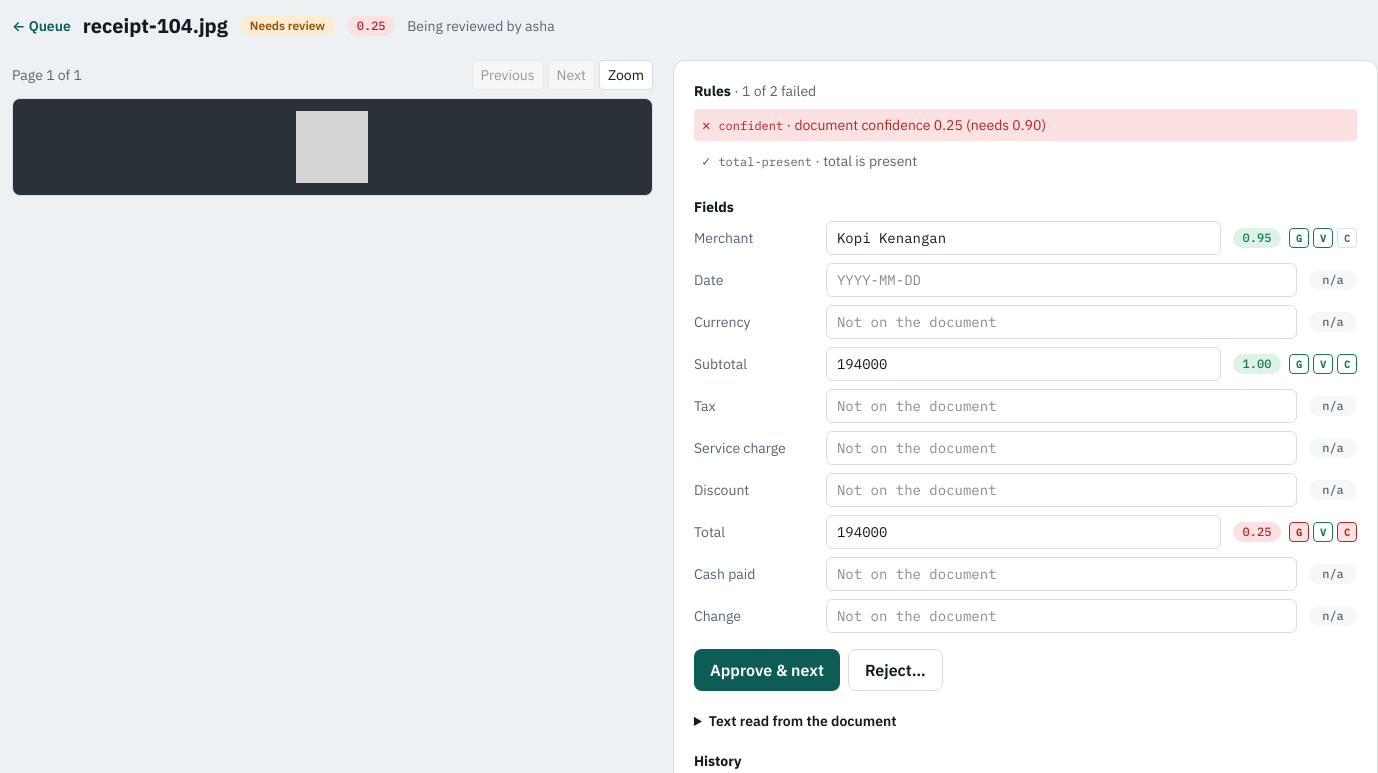
Test: ReviewPage › shows why a decision failed
This screenshot has width=1378, height=773.
Click the button "Approve & next" at (767, 670), box x1=694 y1=649 x2=840 y2=691
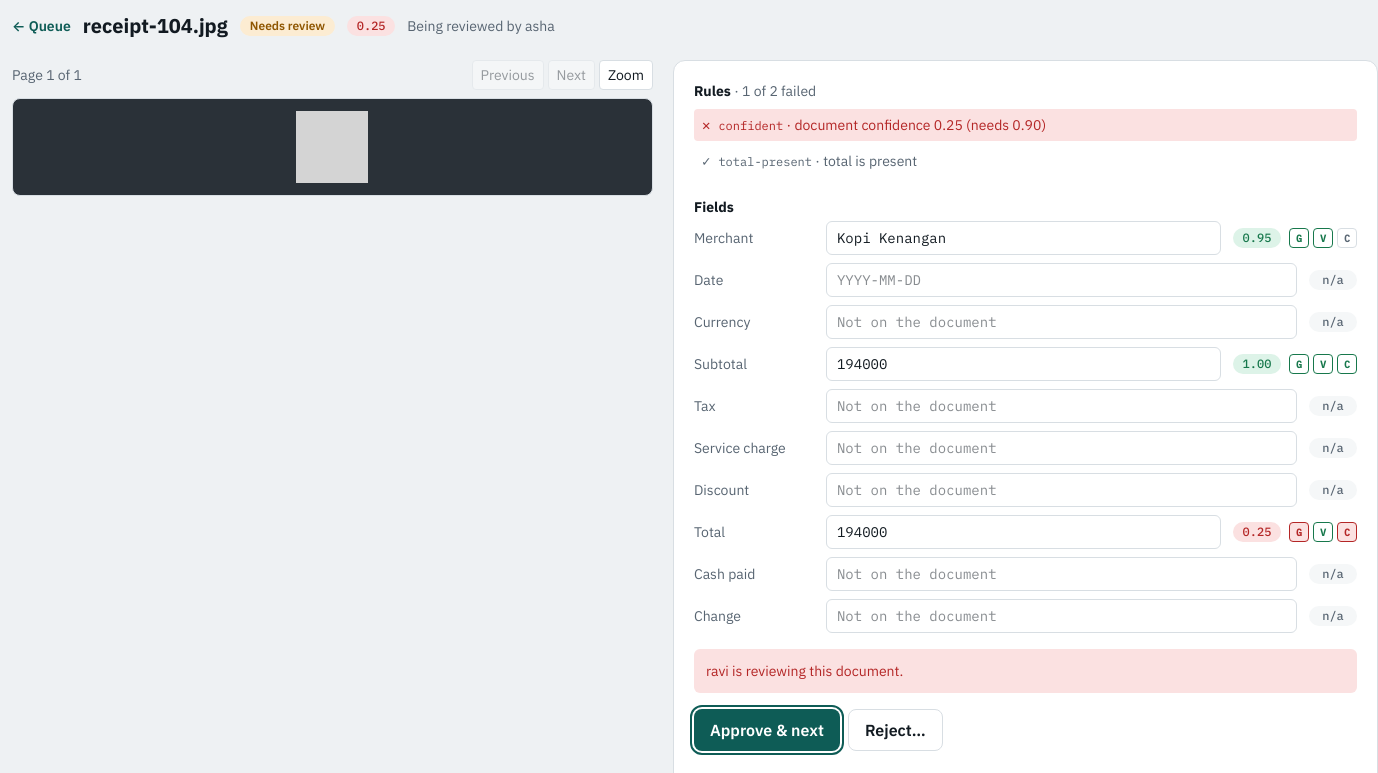
Now the message reads "ravi is reviewing this document.", box x1=706 y1=662 x2=903 y2=680
